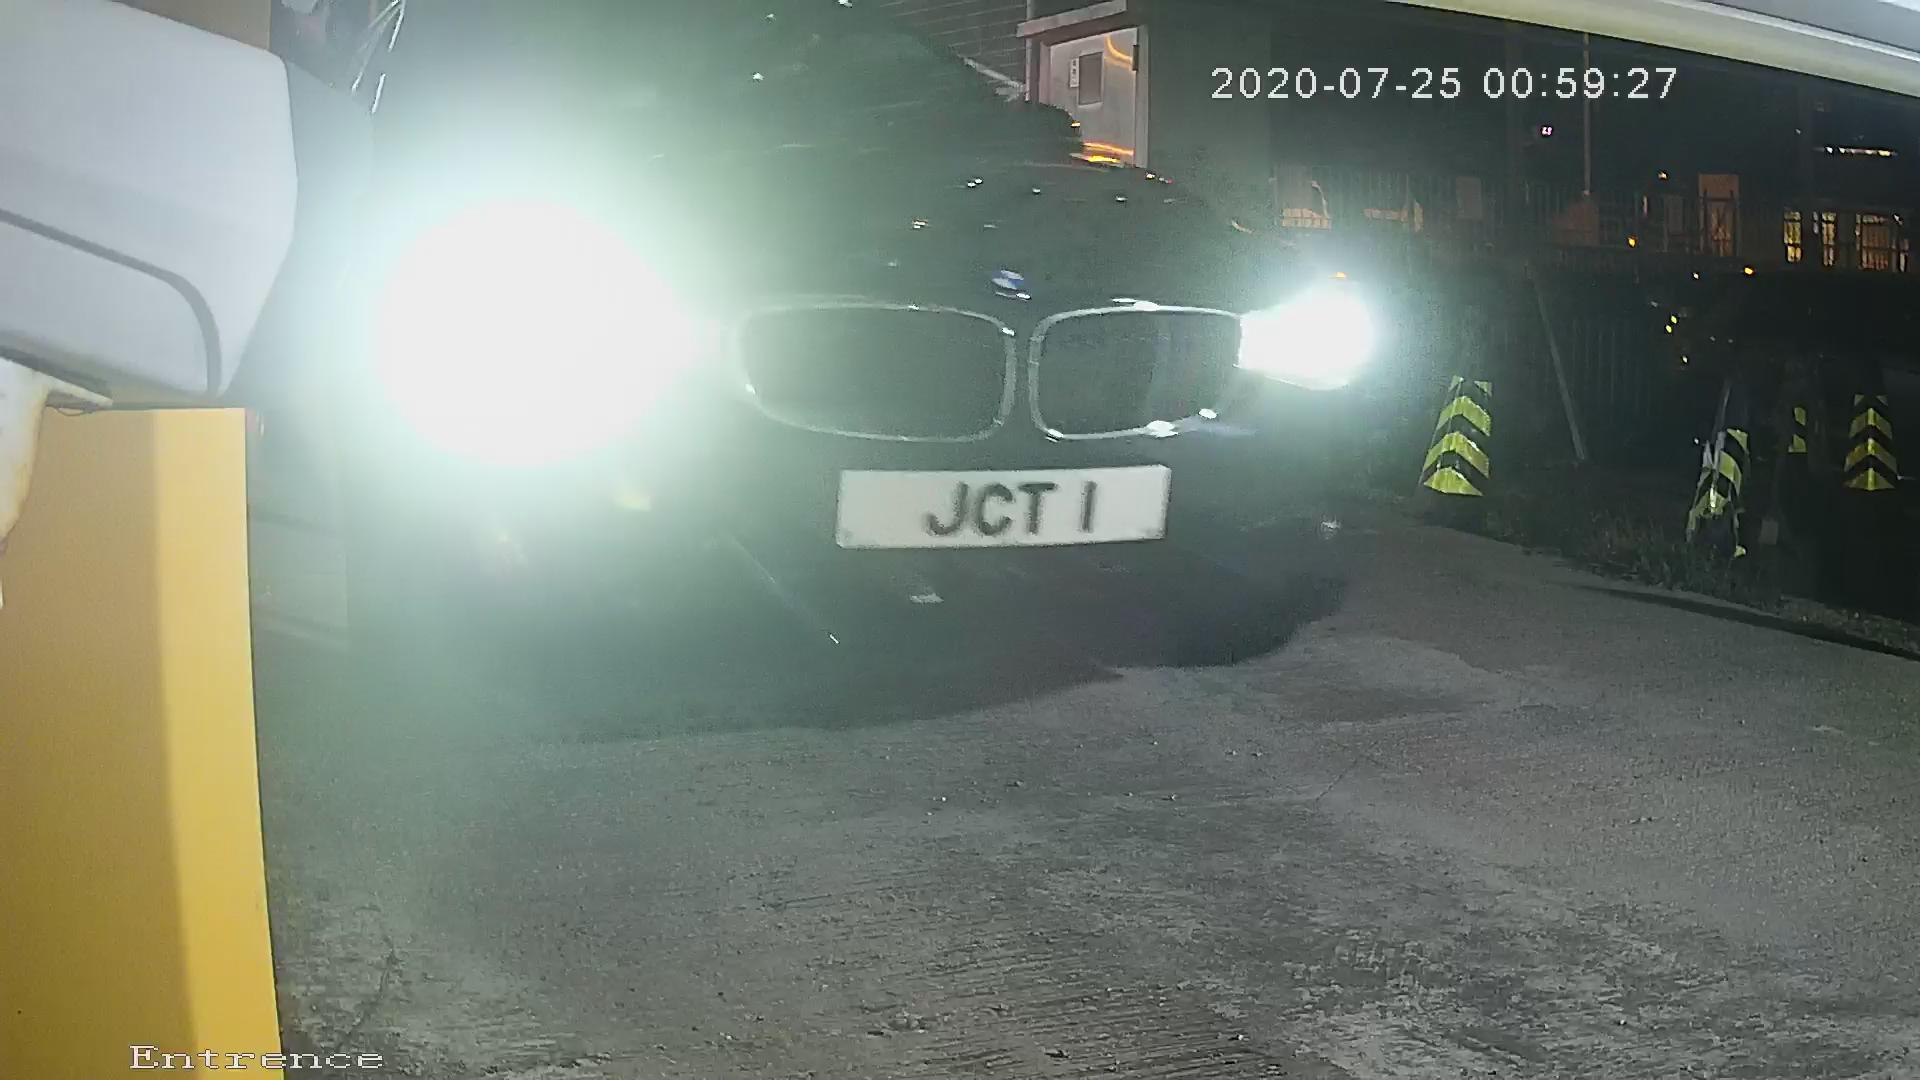License Plate: (781, 454, 1209, 560)
